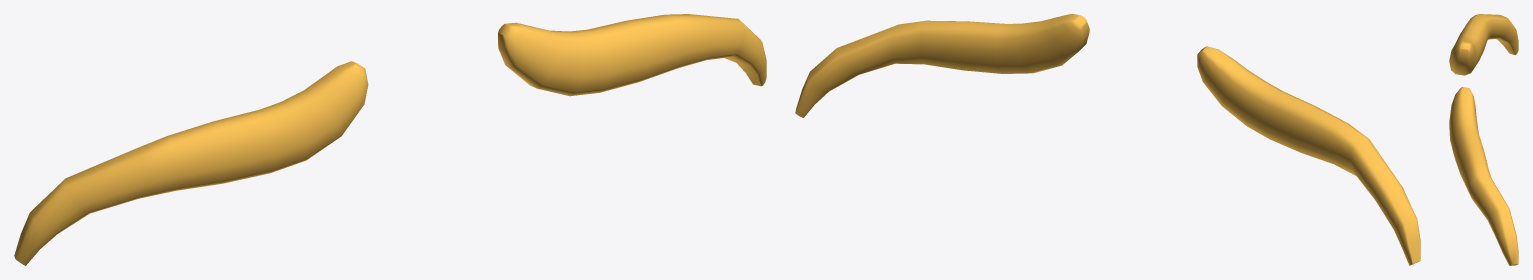
File: Eyebrows_22_05.fbx
The picture shows the model from 3 angles, left to right: view 1: azimuth 30°, elevation 25°; view 2: azimuth 150°, elevation 25°; view 3: azimuth 270°, elevation 25°; orthographic projection. The views are drawn at different scales.
Parts seen in each view (by area): view 1: Eyebrows_22_05; view 2: Eyebrows_22_05; view 3: Eyebrows_22_05.
Boxes of the visible parts, x1=… form: Eyebrows_22_05: x1=14, y1=14, x2=766, y2=265; Eyebrows_22_05: x1=795, y1=14, x2=1420, y2=265; Eyebrows_22_05: x1=1449, y1=14, x2=1518, y2=265.
Size of the model in its own units: 18.69 by 3.84 by 2.54.
